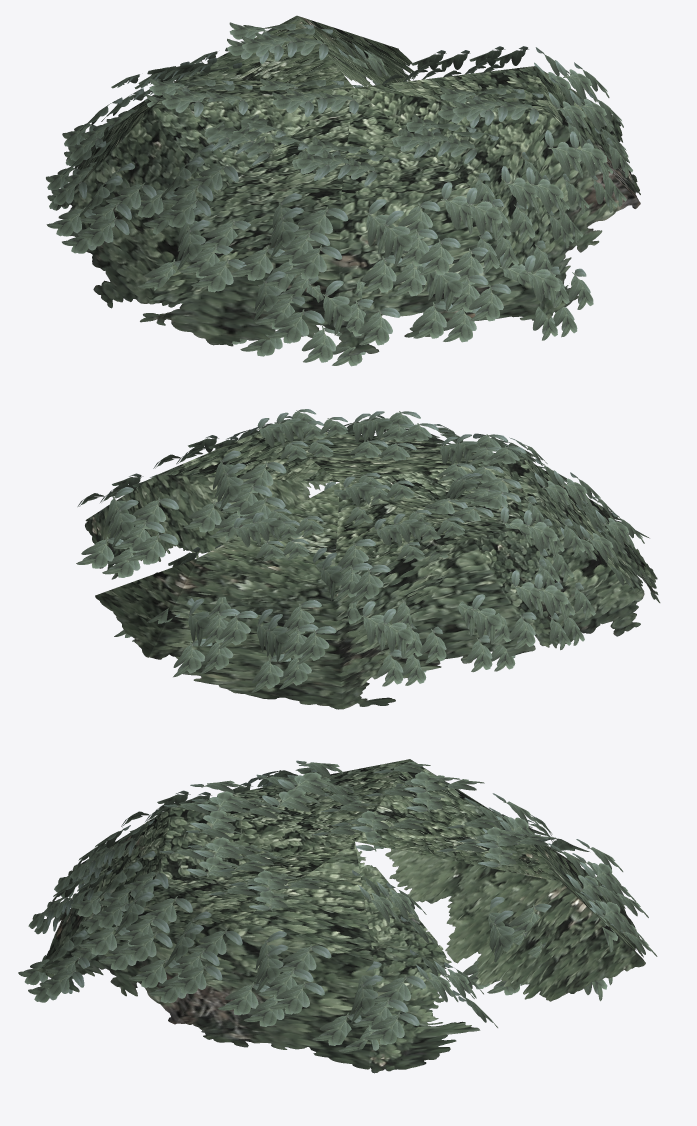
The model's file is Shrub.fbx.
The picture shows the model from 3 angles, top to bottom: view 1: azimuth 30°, elevation 25°; view 2: azimuth 150°, elevation 25°; view 3: azimuth 270°, elevation 25°; orthographic projection. The views are drawn at different scales.
Parts seen in each view (by area): view 1: pSphere4, polySurface258; view 2: pSphere4, polySurface258; view 3: pSphere4, polySurface258.
Boxes of the visible parts, x1,y1,x2,y2 form: pSphere4: (56, 15, 640, 355); polySurface258: (46, 22, 632, 366); pSphere4: (85, 431, 660, 709); polySurface258: (76, 409, 649, 692); pSphere4: (36, 759, 645, 1073); polySurface258: (18, 760, 657, 1052).
Size of the model in its own units: 2.7 by 0.6652 by 2.67.
Materials: 2 (2 with a texture image).
